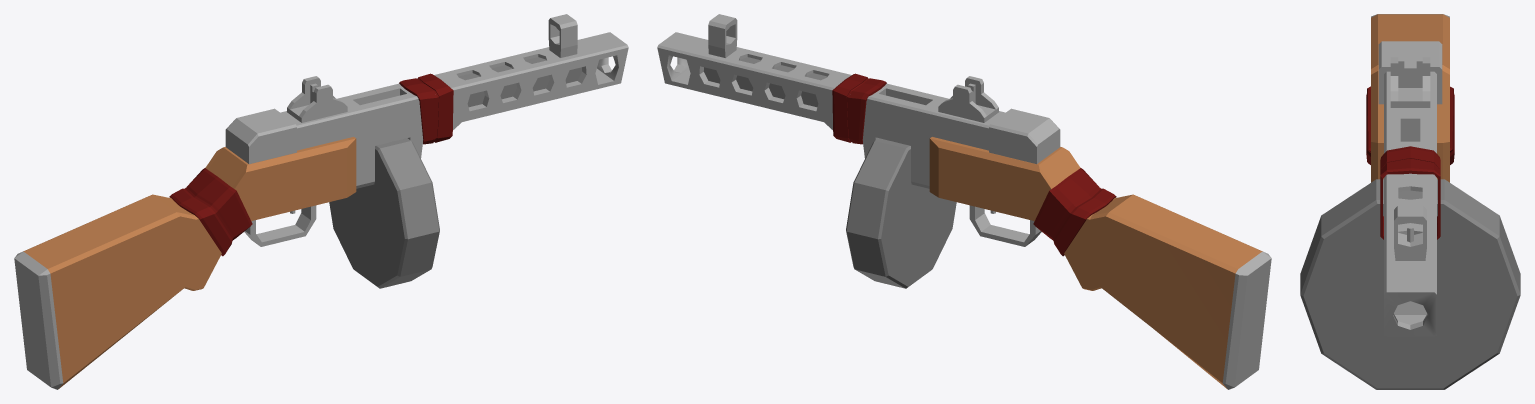
The model's file is ppsh.fbx.
3 renders of one model, left to right at view 1: azimuth 30°, elevation 25°; view 2: azimuth 150°, elevation 25°; view 3: azimuth 270°, elevation 25°, orthographic. The views are drawn at different scales.
Visible parts, largest first — view 1: Magazine; view 2: Magazine; view 3: Magazine.
Boxes of the visible parts, bbox=[...] form: Magazine: bbox=[14, 14, 628, 389]; Magazine: bbox=[657, 14, 1271, 389]; Magazine: bbox=[1300, 14, 1520, 389].
Bounding box in the file's own units: 84.02 × 31.89 × 19.99.
